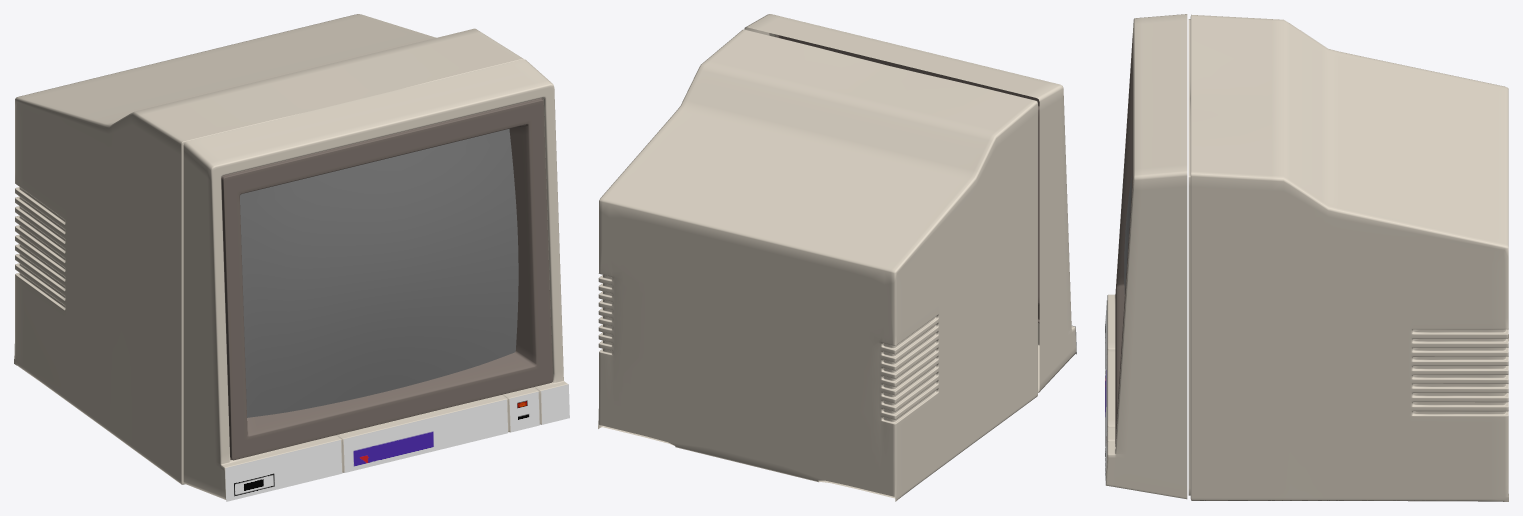
File: monitor.fbx
The picture shows the model from 3 angles, left to right: view 1: azimuth 30°, elevation 25°; view 2: azimuth 150°, elevation 25°; view 3: azimuth 270°, elevation 25°; orthographic projection. The views are drawn at different scales.
Parts seen in each view (by area): view 1: monitor, monitor_screen, monitor_frame, monitor_front_branding; view 2: monitor, monitor_frame; view 3: monitor, monitor_frame, monitor_front_branding.
Boxes of the visible parts, bbox=[...] form: monitor: bbox=[14, 14, 567, 499]; monitor_screen: bbox=[240, 129, 518, 417]; monitor_frame: bbox=[221, 98, 553, 460]; monitor_front_branding: bbox=[225, 384, 569, 501]; monitor: bbox=[598, 14, 1076, 501]; monitor_frame: bbox=[775, 34, 1039, 323]; monitor: bbox=[1106, 14, 1508, 501]; monitor_frame: bbox=[1115, 36, 1133, 446]; monitor_front_branding: bbox=[1105, 295, 1107, 485].
Bounding box in the file's own units: 0.3624 × 0.3457 × 0.3845.
Materials: 4 (2 with a texture image).
